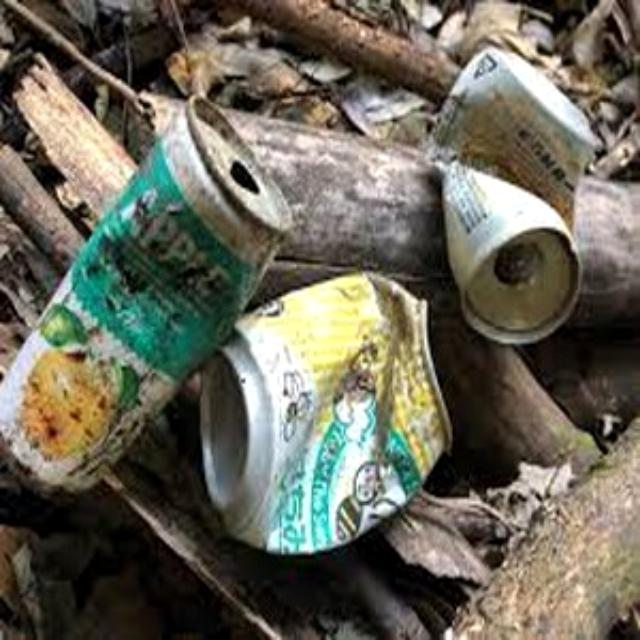Metal: (0, 88, 288, 490), (204, 283, 456, 559), (434, 51, 596, 346)
